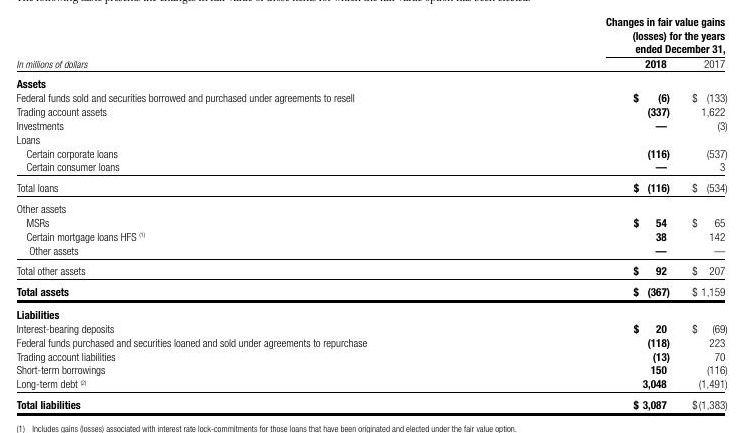table: (0, 0, 745, 433)
